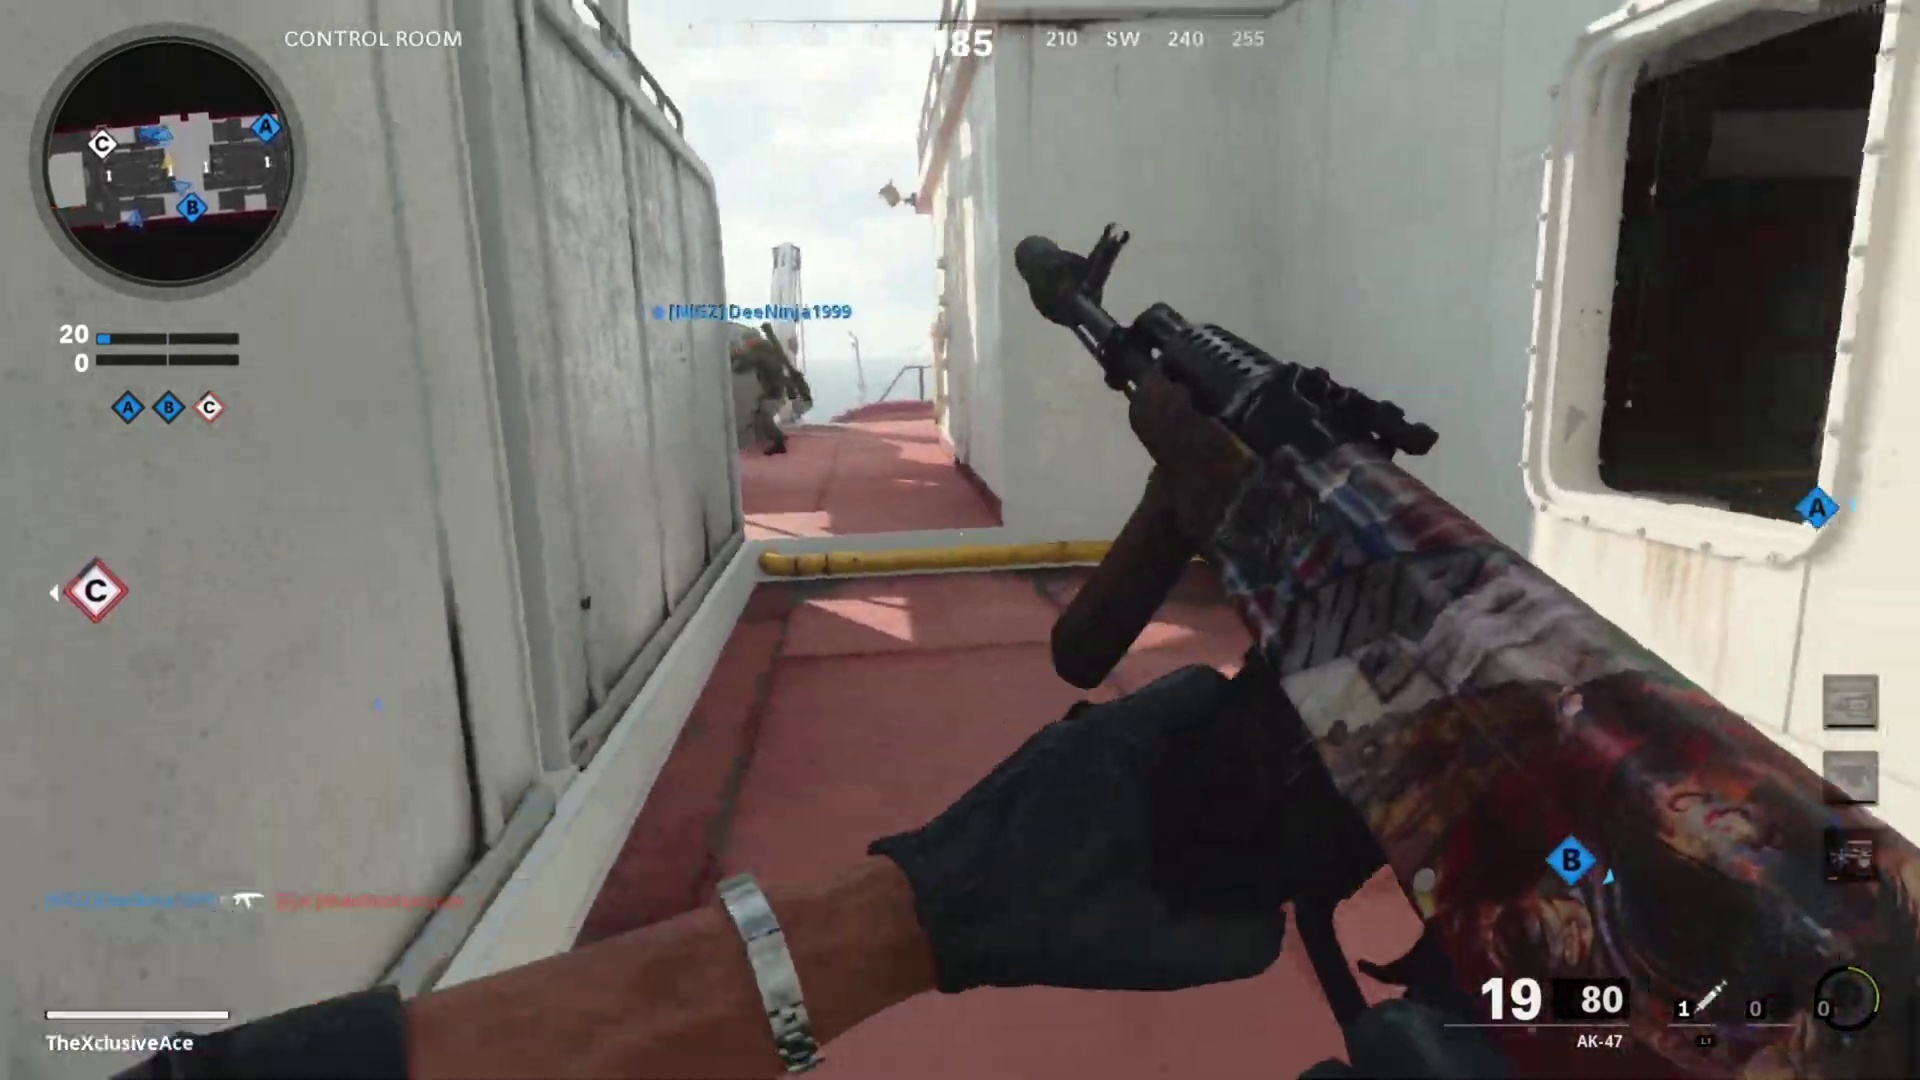person: (729, 325, 801, 454)
